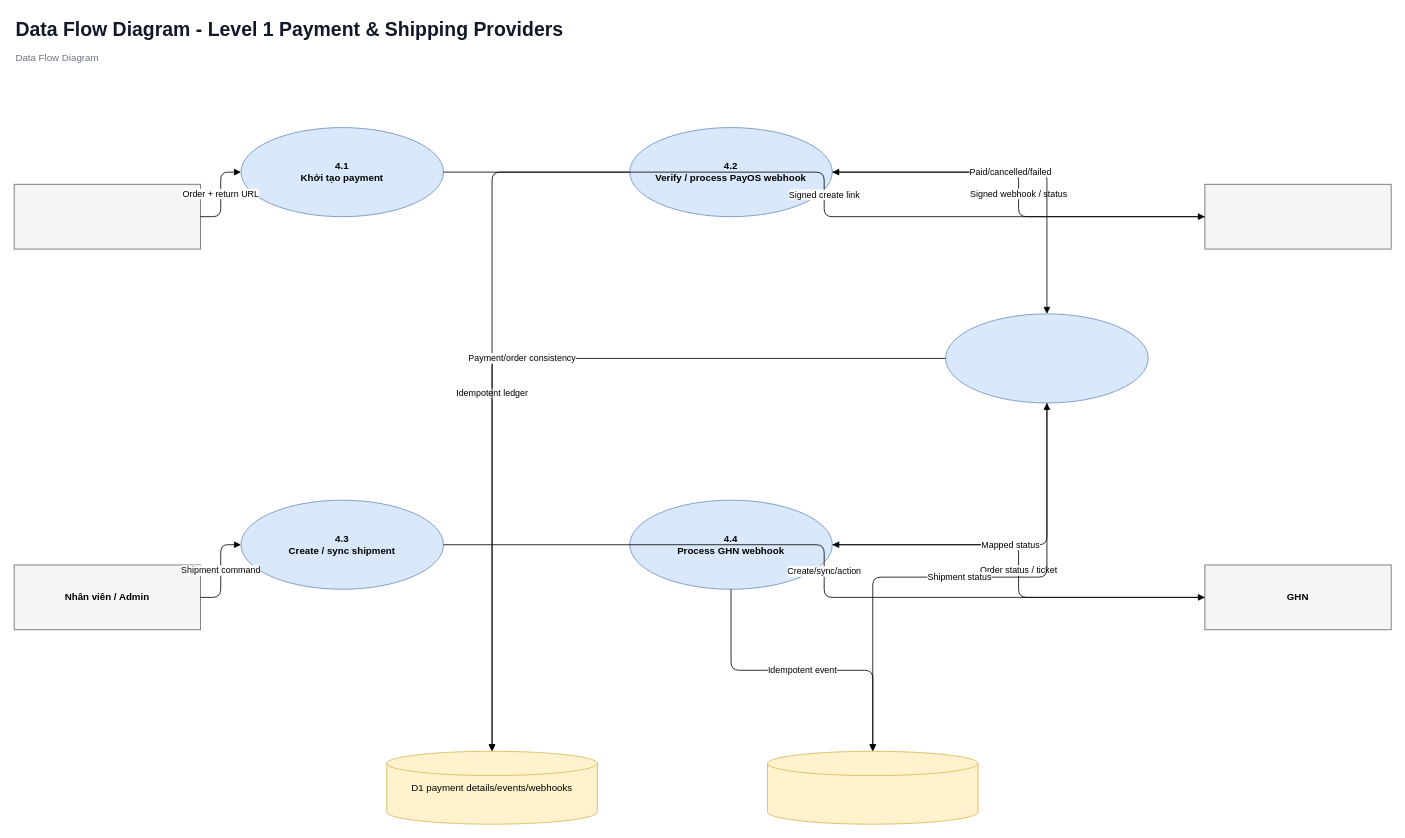
The diagram is 1405 pixels wide and 838 high, and some of its shapes have lost their labels. Here are the shapes that lost their labels. From the top down, the centre of each, then its label:
(x=106, y=216): Khách hàng
(x=1297, y=216): PayOS
(x=1046, y=358): 4.5 Update order state
(x=872, y=787): D2 shipping orders/events
